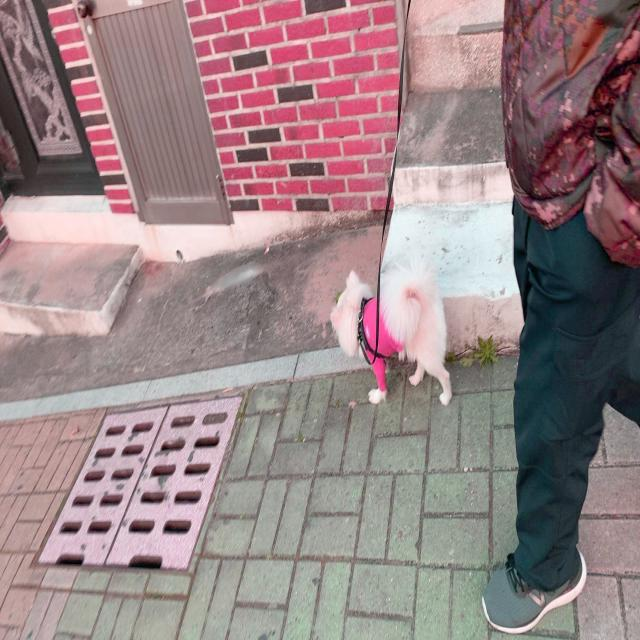Leashed_Dog: (329, 2, 587, 406)
